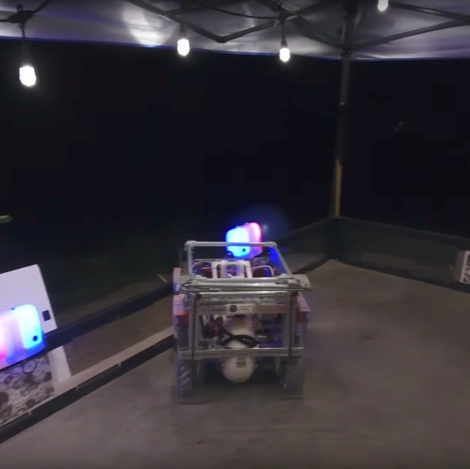robot: (162, 233, 318, 402)
